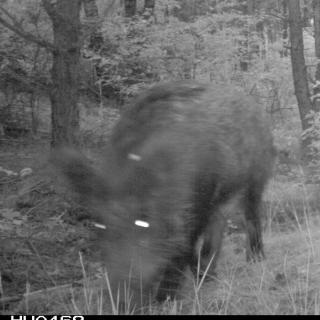Pig: (26, 35, 280, 288)
